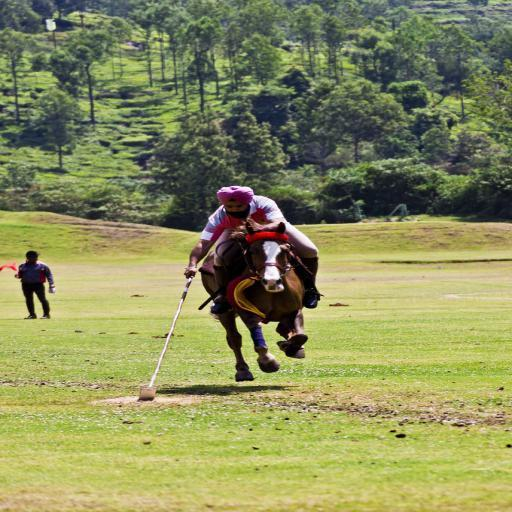horse: (196, 218, 309, 383)
